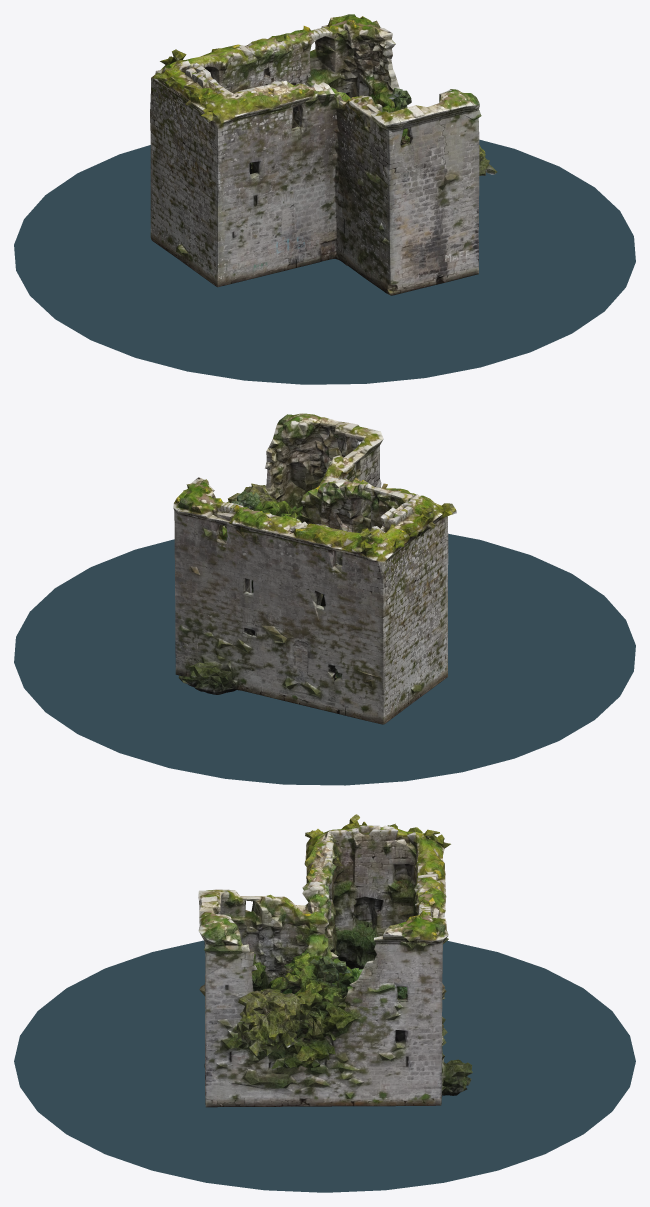
Rendered from StanleyCastleCleaned30KWater.fbx.
3 renders of one model, top to bottom at view 1: azimuth 30°, elevation 25°; view 2: azimuth 150°, elevation 25°; view 3: azimuth 270°, elevation 25°, orthographic.
Visible parts, largest first — view 1: 30k; view 2: 30k; view 3: 30k.
Part boxes in pixels (left/top/right/bottom): 30k: left=14, top=14, right=635, bottom=384; 30k: left=14, top=413, right=635, bottom=785; 30k: left=14, top=814, right=635, bottom=1192.
Size of the model in its own units: 69.41 by 23.64 by 69.41.
